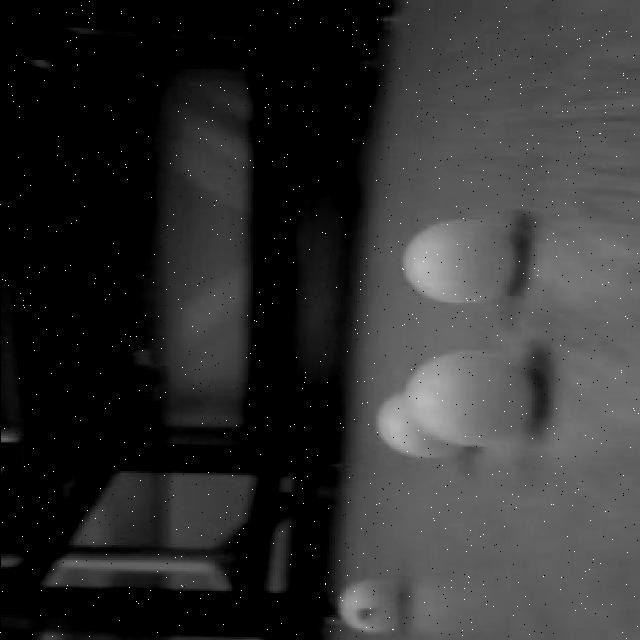ping-pong-ball: (412, 348, 546, 453), (398, 211, 524, 307), (368, 394, 466, 464), (331, 575, 414, 640)
